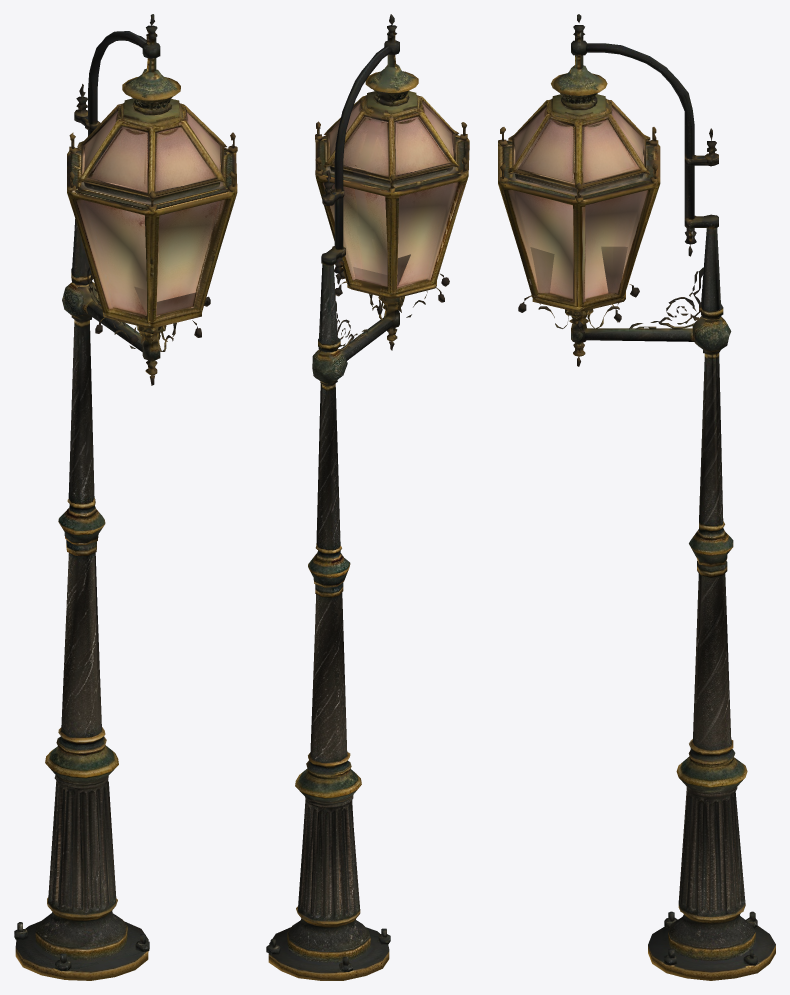
The model's file is tripo_convert_c21200ce-2991-4c45-9e14-6955c508c1b5.fbx.
3 views of the same model, side by side, from view 1: azimuth 30°, elevation 25°; view 2: azimuth 150°, elevation 25°; view 3: azimuth 270°, elevation 25° (orthographic). The views are drawn at different scales.
Visible parts, largest first — view 1: tripo_node_c21200ce; view 2: tripo_node_c21200ce; view 3: tripo_node_c21200ce.
Part boxes in pixels (<box>): tripo_node_c21200ce: <box>14,14,237,980</box>; tripo_node_c21200ce: <box>266,14,469,980</box>; tripo_node_c21200ce: <box>498,14,775,980</box>.
Size of the model in its own units: 0.1777 by 0.998 by 0.2676.
Materials: 1 (1 with a texture image).
